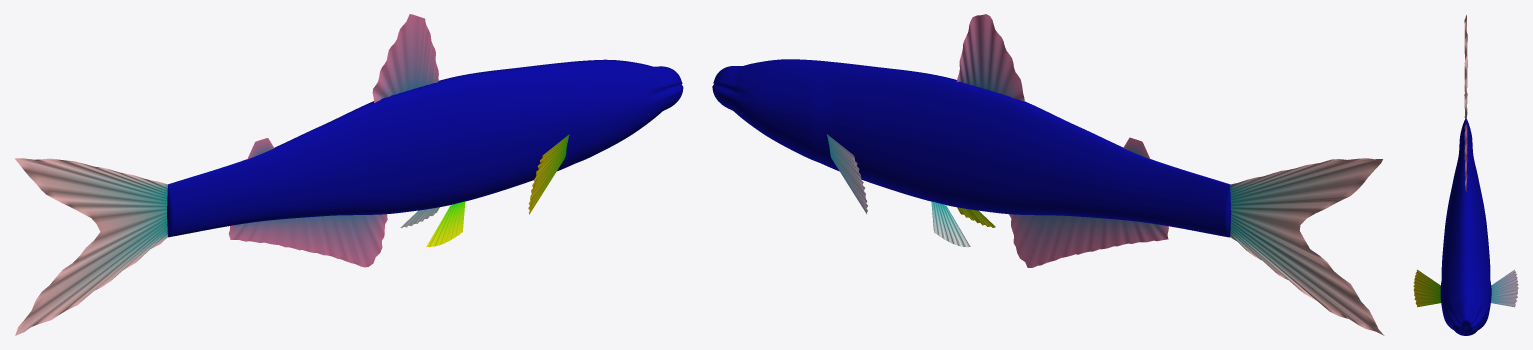
Rendered from neon.glb.
3 renders of one model, left to right at view 1: azimuth 30°, elevation 25°; view 2: azimuth 150°, elevation 25°; view 3: azimuth 270°, elevation 25°, orthographic. The views are drawn at different scales.
Parts seen in each view (by area): view 1: neon; view 2: neon; view 3: neon.
Part boxes in pixels (x1,y1,x2,y2): neon: [15, 14, 683, 335]; neon: [712, 14, 1384, 335]; neon: [1413, 15, 1518, 335].
Size of the model in its own units: 1.3 by 0.4522 by 0.2346.
